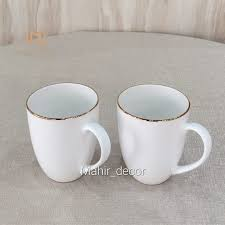mug: (105, 75, 217, 204), (25, 72, 128, 202)
